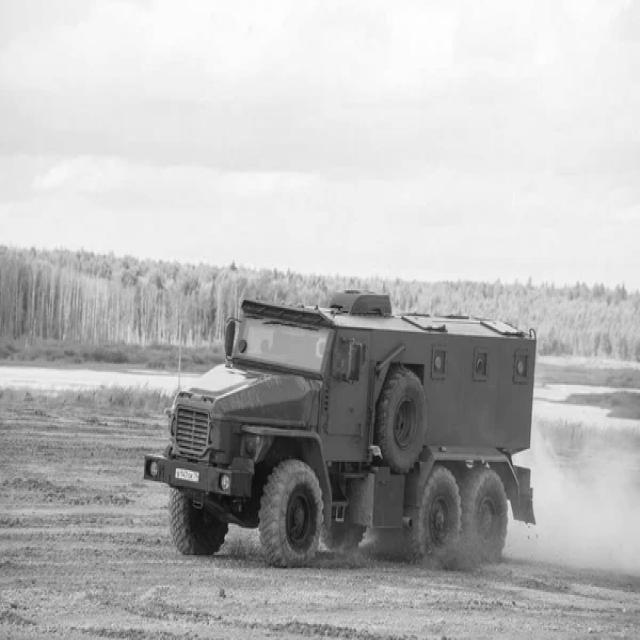Truck: (144, 290, 537, 567)
